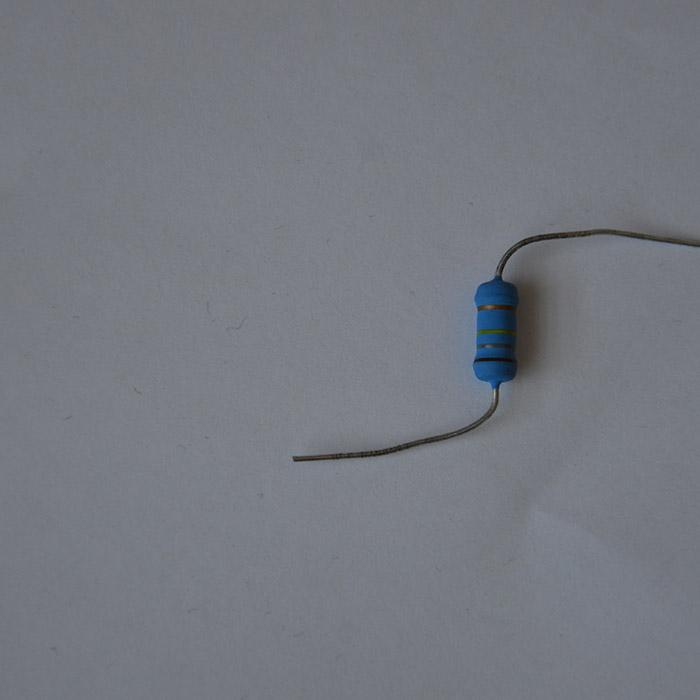resistor: (471, 275, 520, 386)
